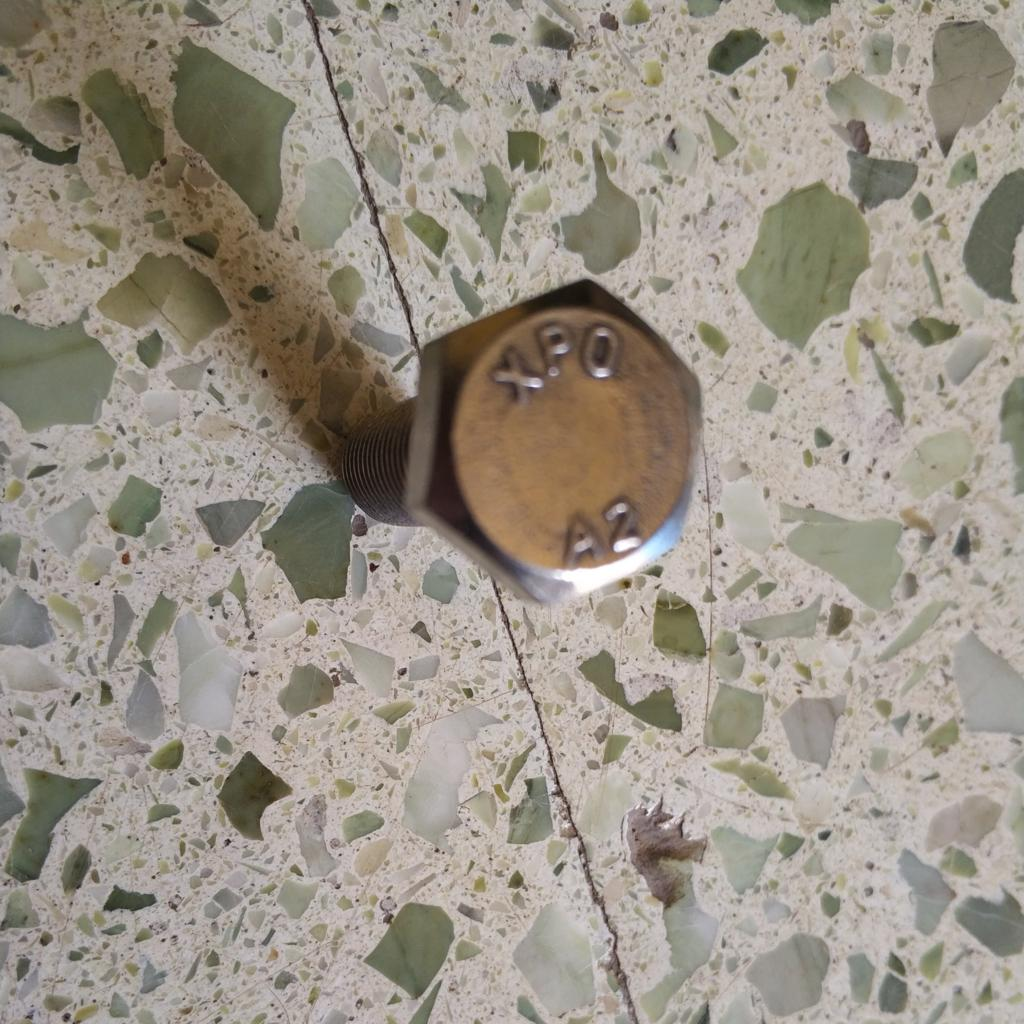screwtype2silver: (331, 274, 710, 620)
